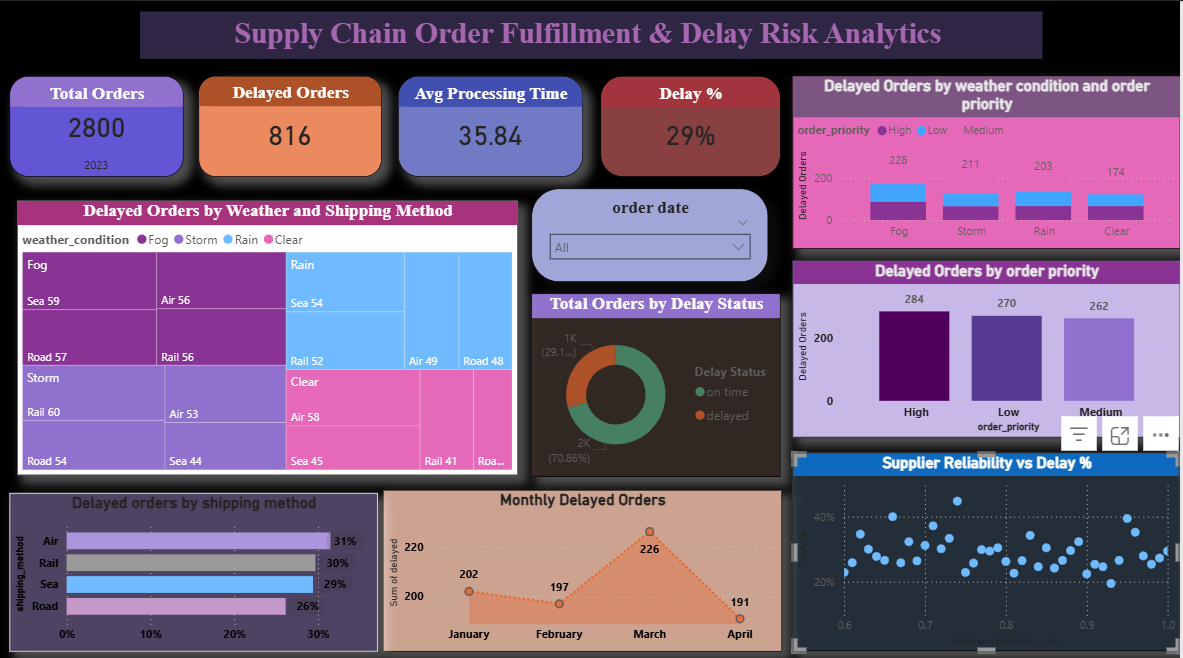

Layout of this report page (visuals, bound fields, positions):
{"tool":"powerbi","page":{"name":"Page 1","canvas":[1280,720],"ordinal":0},"visuals":[{"type":"kpi","title":"Total Orders ","fields":{"Indicator":["supplychain.Total Orders"],"TrendLine":["supplychain.order_date.Variation.Date Hierarchy.Year"]},"box":[11.6,81.2,188.8,109.3],"z":0},{"type":"kpi","title":"Delayed Orders ","fields":{"Indicator":["supplychain.Delayed Orders"],"TrendLine":["supplychain.order_date.Variation.Date Hierarchy.Year"]},"box":[217,81.2,198.8,109.3],"z":1000},{"type":"kpi","title":"Avg Processing Time ","fields":{"Indicator":["supplychain.Avg Processing Time"],"TrendLine":["supplychain.order_date.Variation.Date Hierarchy.Year"]},"box":[432.3,81.2,200.4,109.3],"z":2000},{"type":"donutChart","fields":{"Category":["supplychain.Delay Status"],"Y":["supplychain.Total Orders"]},"box":[578.1,316.4,270,198.8],"z":3000},{"type":"textbox","box":[152.4,11.6,979,51.4],"z":4000},{"type":"slicer","title":"order date ","fields":{"Values":["supplychain.order_date"]},"box":[578.1,203.7,256.8,101],"z":5000},{"type":"columnChart","title":"Delayed Orders by weather condition and order priority","fields":{"Category":["supplychain.weather_condition"],"Y":["supplychain.Delayed Orders"],"Series":["supplychain.order_priority"]},"box":[859.7,81.2,420.7,187.2],"z":6000},{"type":"kpi","title":"Delay % ","fields":{"Indicator":["supplychain.Delay %"],"TrendLine":["supplychain.order_date.Variation.Date Hierarchy.Year"]},"box":[652.7,81.2,195.5,109.3],"z":7000},{"type":"columnChart","title":"Delayed Orders by order priority","fields":{"Category":["supplychain.order_priority"],"Y":["supplychain.Delayed Orders"]},"box":[859.7,281.6,420.7,192.2],"z":8000},{"type":"lineChart","title":"Monthly Delayed Orders","fields":{"Y":["Sum(supplychain.delayed)"],"Category":["supplychain.order_date.Variation.Date Hierarchy.Month"]},"box":[415.8,530.1,432.3,175.6],"z":9000},{"type":"scatterChart","title":"Supplier Reliability vs Delay %","fields":{"X":["supplychain.supplier_reliability_score"],"Y":["supplychain.Delay %"]},"box":[859.7,490.3,420.7,215.3],"z":10000},{"type":"barChart","title":"Delayed orders by shipping method","fields":{"Category":["supplychain.shipping_method"],"Y":["supplychain.Delay %"]},"box":[11.6,533.4,399.2,172.3],"z":11000},{"type":"treemap","title":"Delayed Orders by Weather and Shipping Method","fields":{"Values":["Sum(supplychain.delayed)"],"Group":["supplychain.weather_condition"],"Details":["supplychain.shipping_method"]},"box":[19.9,217,543.3,298.2],"z":12000}]}

Visuals, with their boxes in screenshot pixels (x1, y1, x2, y2), scaled from the page's 1280x720 canvas onto the 1183x658 screenshot:
"Total Orders " kpi: left=11, top=74, right=185, bottom=174
"Delayed Orders " kpi: left=201, top=74, right=384, bottom=174
"Avg Processing Time " kpi: left=400, top=74, right=585, bottom=174
donutChart - supplychain.Delay Status x supplychain.Total Orders: left=534, top=289, right=784, bottom=471
textbox: left=141, top=11, right=1046, bottom=58
"order date " slicer: left=534, top=186, right=772, bottom=278
"Delayed Orders by weather condition and order priority" columnChart: left=795, top=74, right=1182, bottom=245
"Delay % " kpi: left=603, top=74, right=784, bottom=174
"Delayed Orders by order priority" columnChart: left=795, top=257, right=1182, bottom=433
"Monthly Delayed Orders" lineChart: left=384, top=484, right=784, bottom=645
"Supplier Reliability vs Delay %" scatterChart: left=795, top=448, right=1182, bottom=645
"Delayed orders by shipping method" barChart: left=11, top=487, right=380, bottom=645
"Delayed Orders by Weather and Shipping Method" treemap: left=18, top=198, right=521, bottom=471
